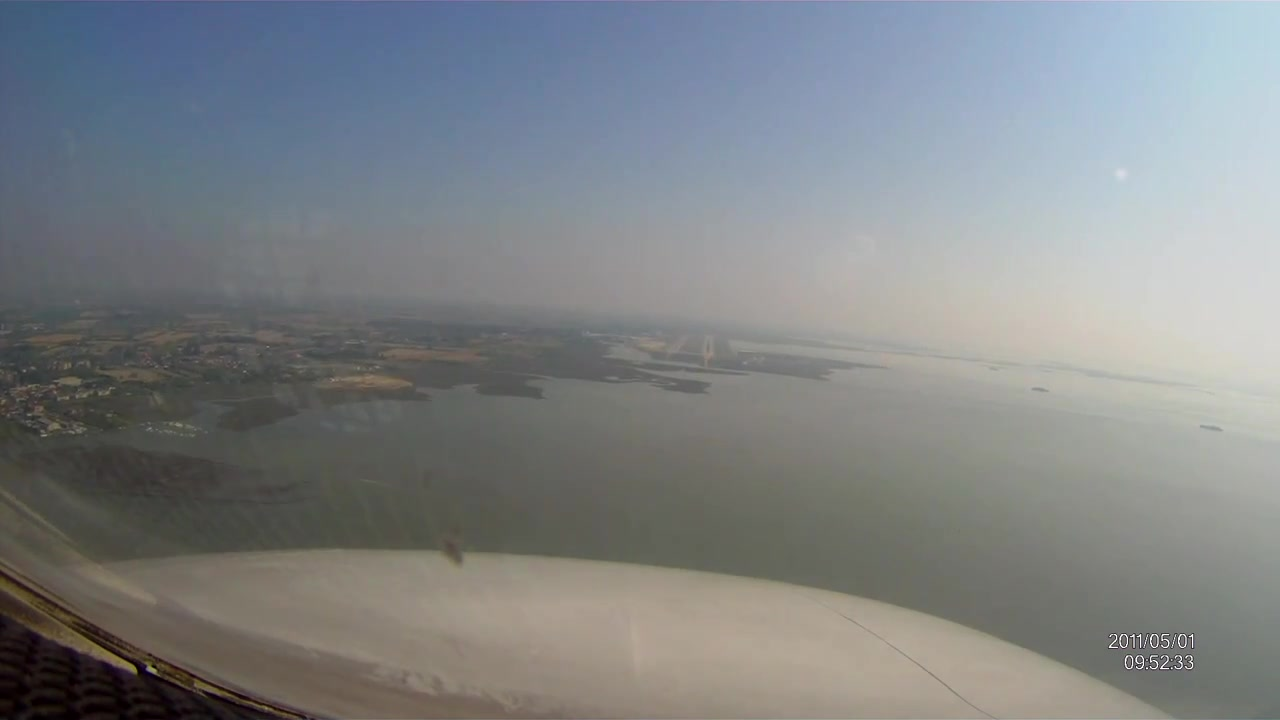runway: (666, 335, 689, 355), (702, 334, 718, 358)
